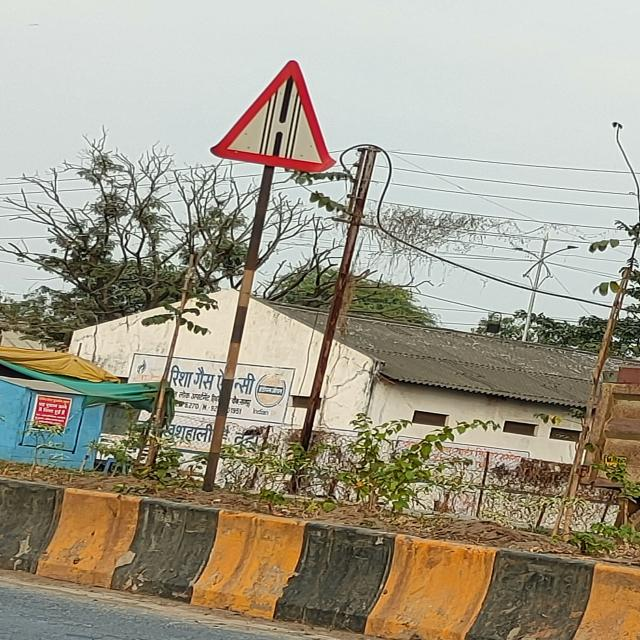GAP_IN_MEDIAN: (212, 58, 331, 170)
